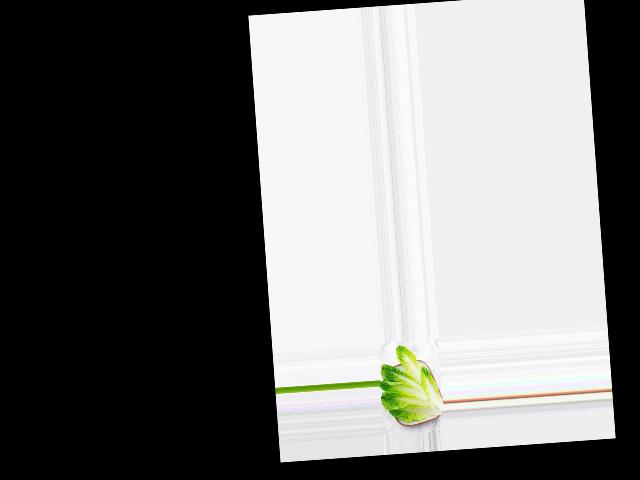lettuce: (375, 341, 443, 429)
